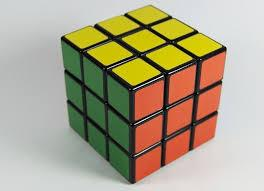cubos: (60, 4, 234, 187)
